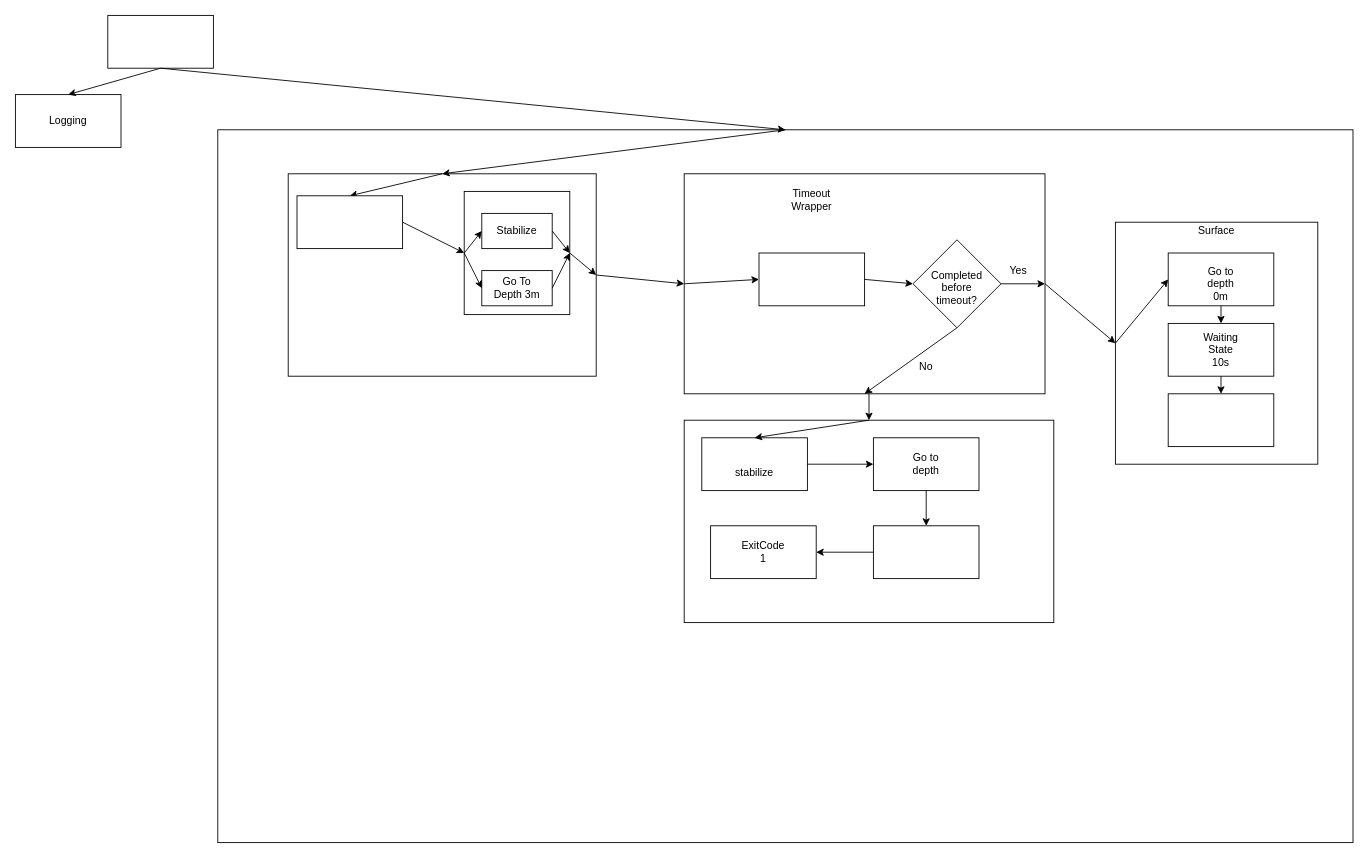
Image size: 1368x858. Some labels were removed from this diagram. The centre of each missing label's shape, as x and y in pixels:
Barrell Roll: point 811,279
ExitCode 0: point 1220,420
Root: point 160,41
Waiting: point 926,552
Waiting State 20s: point 349,222
